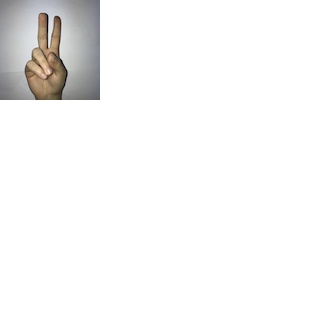scissors: (22, 10, 68, 98)
